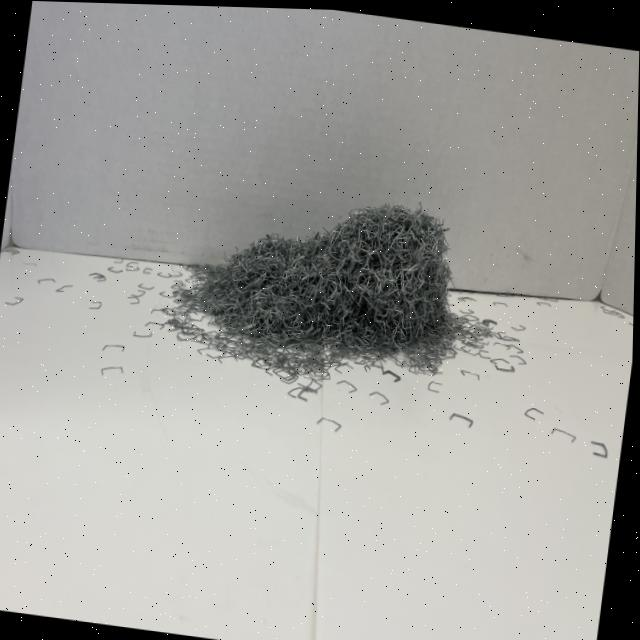staples: (167, 169, 468, 373)
